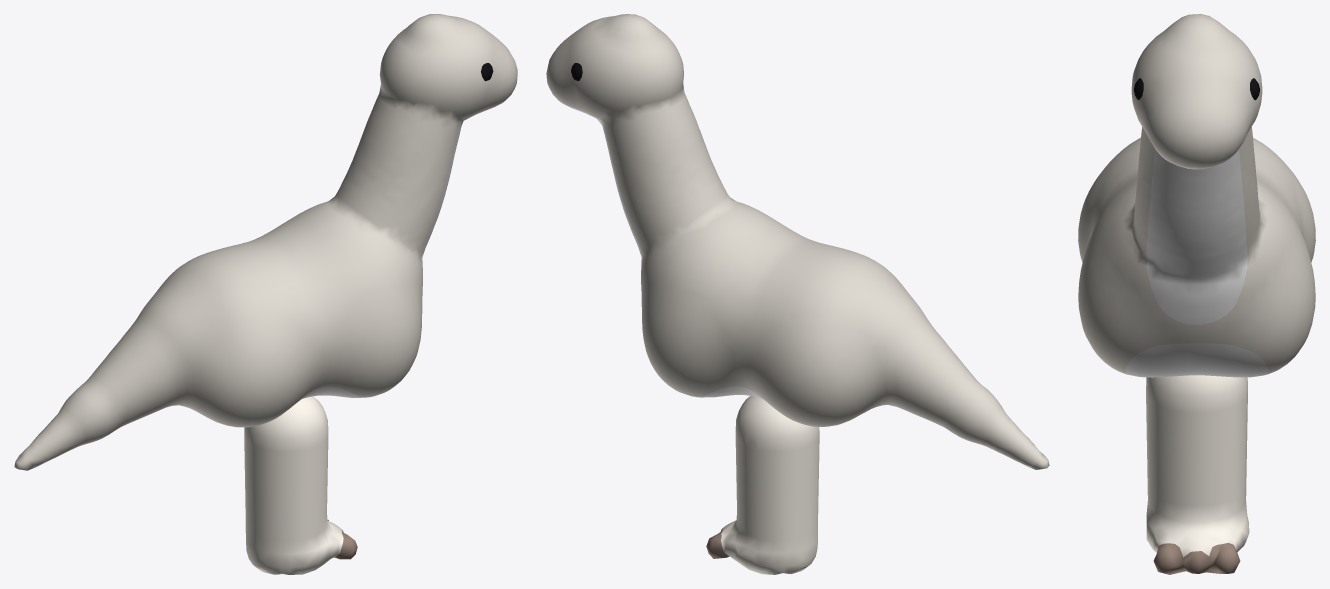
File: brachiosaurus_baby.glb
The picture shows the model from 3 angles, left to right: view 1: azimuth 30°, elevation 25°; view 2: azimuth 150°, elevation 25°; view 3: azimuth 270°, elevation 25°; orthographic projection. The views are drawn at different scales.
Visible parts, largest first — view 1: body, leg; view 2: body, leg; view 3: body, leg, eye.
Part boxes in pixels (x1,y1,x2,y2): body: [14, 14, 517, 470]; leg: [244, 396, 357, 574]; body: [546, 14, 1049, 469]; leg: [706, 396, 819, 574]; body: [1078, 14, 1315, 377]; leg: [1146, 375, 1249, 574]; eye: [1134, 78, 1259, 100].
Bounding box in the file's own units: 3.39 × 3.32 × 1.16.
